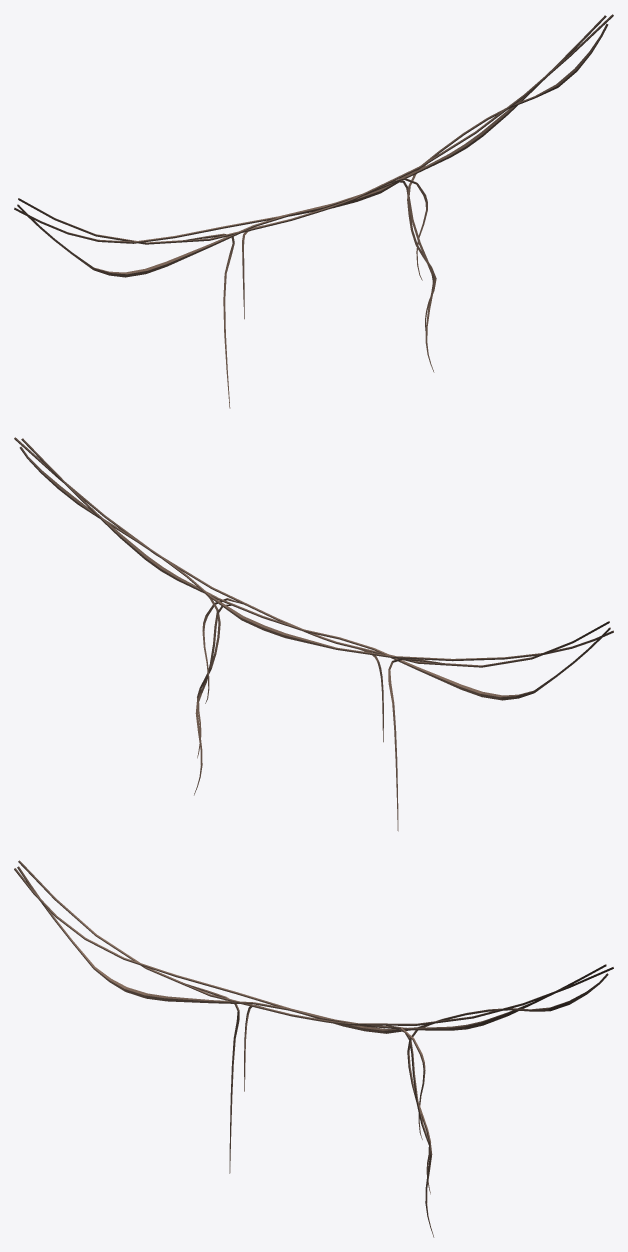
The model's file is Jungle_HangingVines_B.fbx.
The picture shows the model from 3 angles, top to bottom: view 1: azimuth 30°, elevation 25°; view 2: azimuth 150°, elevation 25°; view 3: azimuth 330°, elevation 25°; orthographic projection.
Parts seen in each view (by area): view 1: Jungle_HangingVines_B; view 2: Jungle_HangingVines_B; view 3: Jungle_HangingVines_B.
Boxes of the visible parts, left/top/right/bottom form: Jungle_HangingVines_B: left=14, top=14, right=613, bottom=408; Jungle_HangingVines_B: left=14, top=437, right=613, bottom=831; Jungle_HangingVines_B: left=14, top=860, right=613, bottom=1237.
Bounding box in the file's own units: 15.8 × 7.93 × 0.6224.
